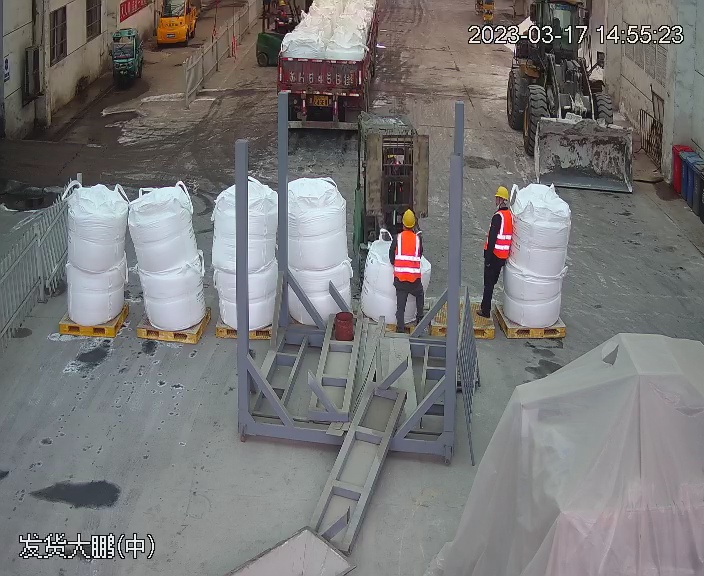head: (392, 209, 421, 248), (491, 185, 515, 227)
helmet: (402, 208, 417, 228), (493, 185, 510, 200)
people: (478, 184, 516, 322), (387, 207, 426, 336)
truck: (273, 0, 387, 127)
